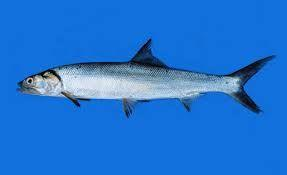Tenpounder: (17, 39, 278, 118)
